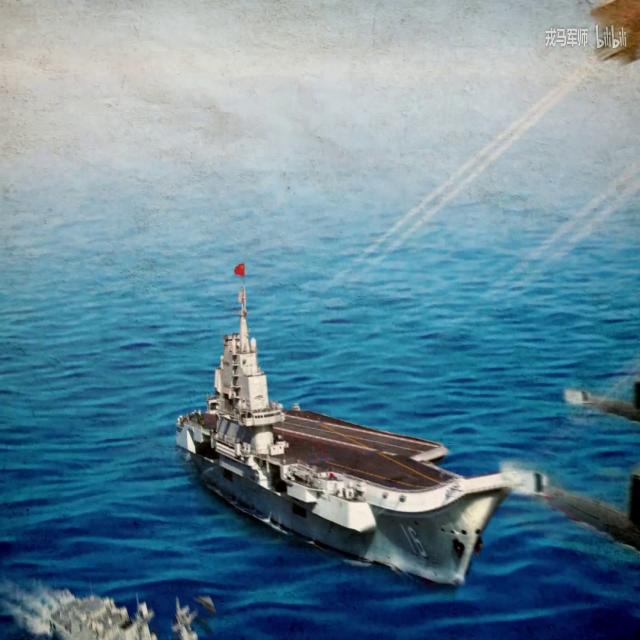navalvessels: (173, 267, 501, 587)
